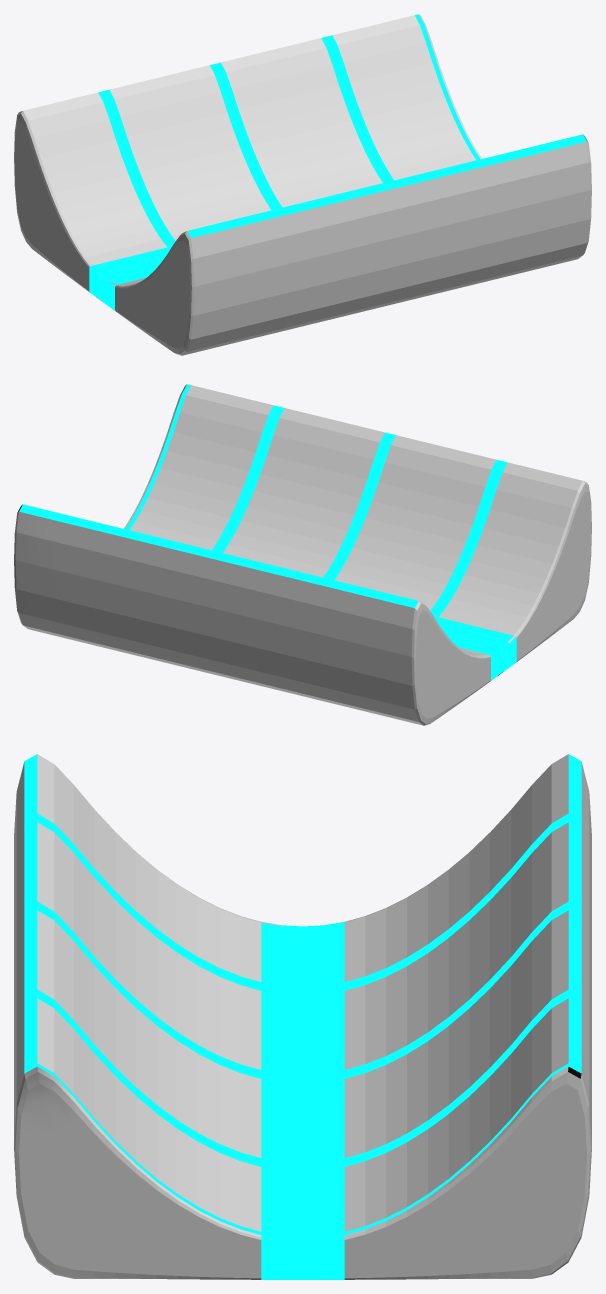
File: Ramp.fbx
The picture shows the model from 3 angles, top to bottom: view 1: azimuth 30°, elevation 25°; view 2: azimuth 150°, elevation 25°; view 3: azimuth 270°, elevation 25°; orthographic projection. The views are drawn at different scales.
Visible parts, largest first — view 1: Cube; view 2: Cube; view 3: Cube.
Boxes of the visible parts, x1=… form: Cube: x1=14, y1=14, x2=591, y2=355; Cube: x1=14, y1=384, x2=591, y2=725; Cube: x1=14, y1=754, x2=591, y2=1279.
Size of the model in its own units: 1800 by 563 by 1388.
